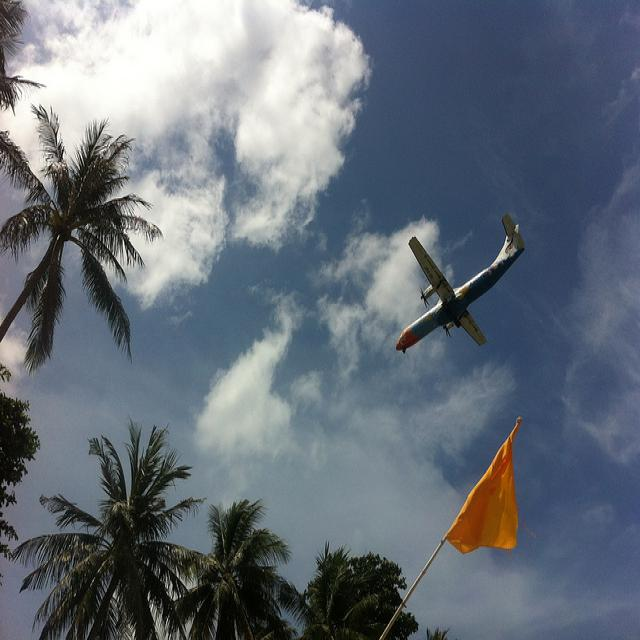airplane: (395, 212, 527, 356)
